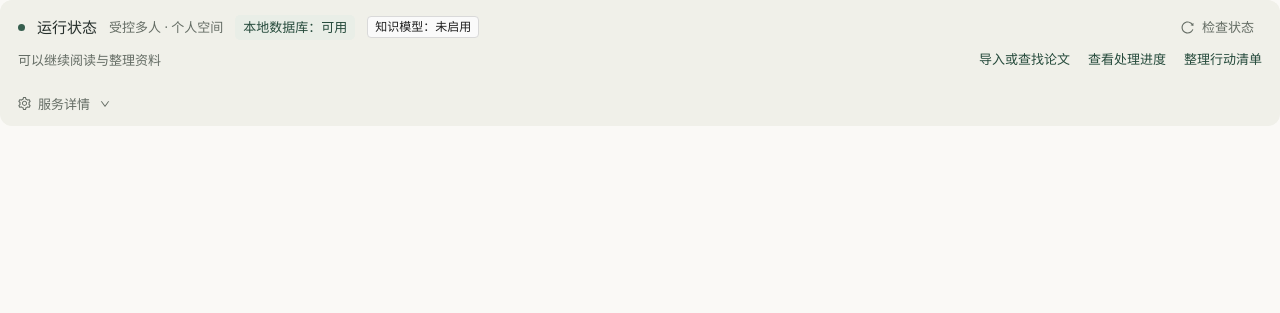
Test: the verified multiuser mode explains capabilities and hides server paths even with older status fields
The image size is (1280, 313).
Expected: the text "受控多人 · 个人空间" is shown, [109,17,223,38]
What coordinates should you click on to do the following:
click the heading "服务详情"
I would click on:
 (64, 104)
Its box is [18,95,110,113].
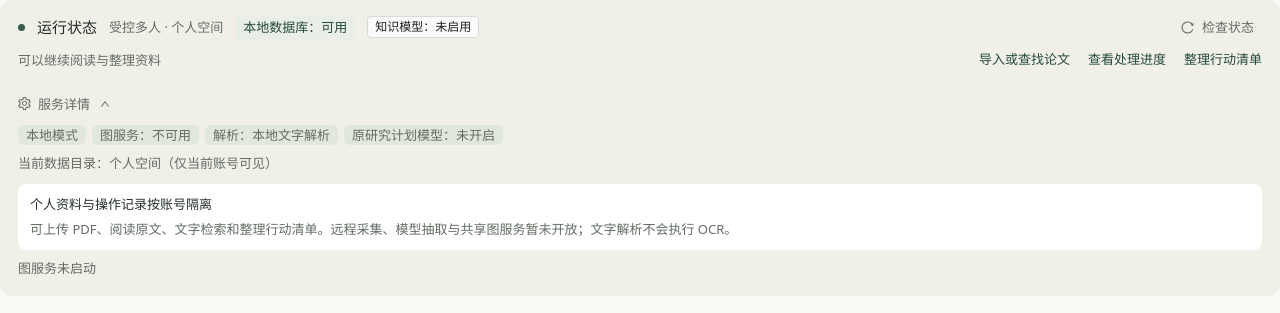
Expected: the text "可上传 PDF、阅读原文、文字检索和整理行动清单。远程采集、模型抽取与共享图服务暂未开放；文字解析不会执行 OCR。" is shown, [30,220,737,238]
